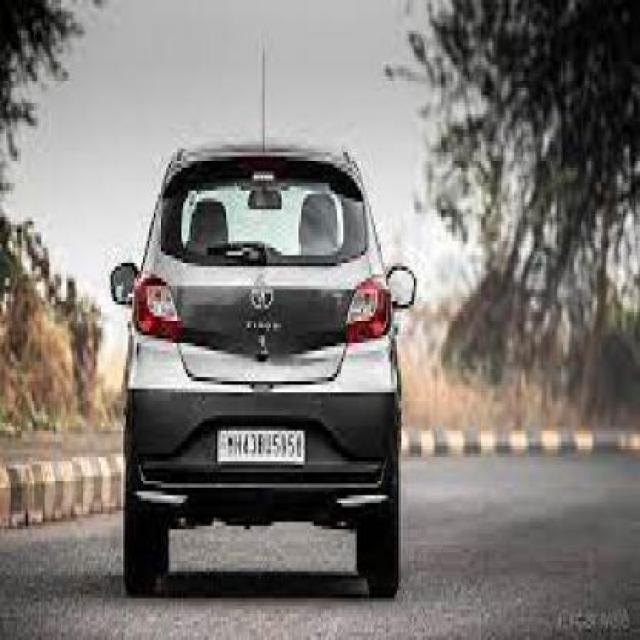vehicle: (85, 117, 428, 605)
